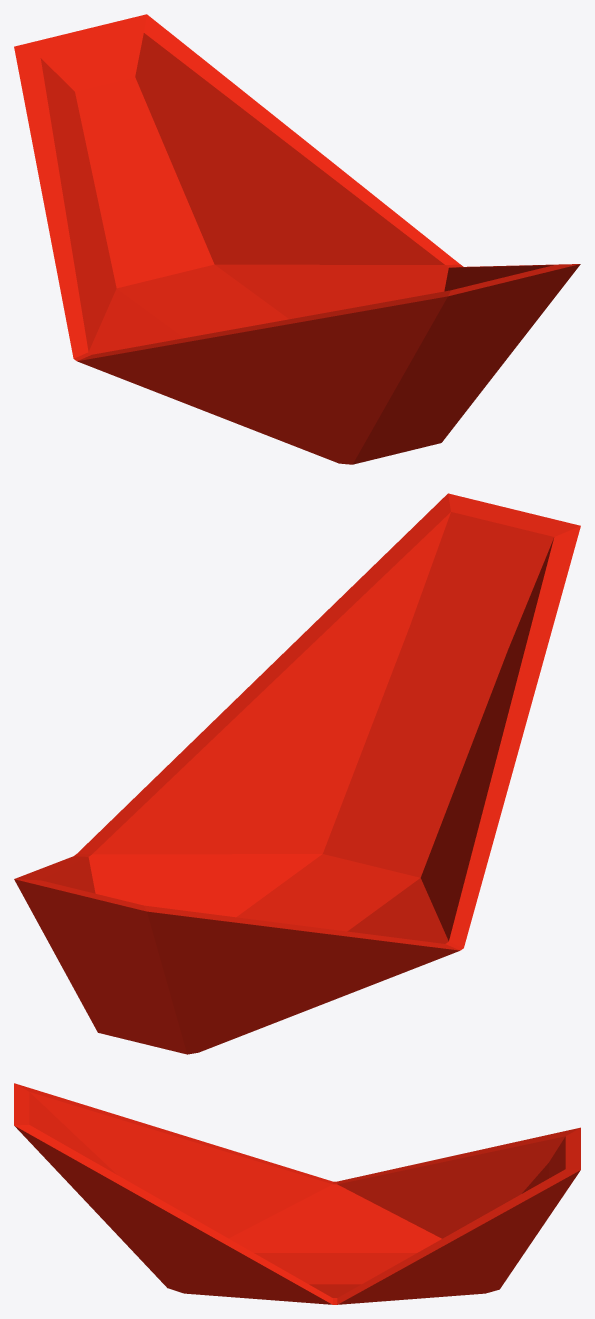
The model's file is PROP_PaperBoat.FBX.
The picture shows the model from 3 angles, top to bottom: view 1: azimuth 30°, elevation 25°; view 2: azimuth 150°, elevation 25°; view 3: azimuth 270°, elevation 25°; orthographic projection. The views are drawn at different scales.
Parts seen in each view (by area): view 1: barca n2; view 2: barca n2; view 3: barca n2.
Boxes of the visible parts, x1,y1,x2,y2 form: barca n2: [14, 14, 580, 464]; barca n2: [14, 493, 580, 1054]; barca n2: [14, 1083, 580, 1304].
Bounding box in the file's own units: 1.81 × 1.2 × 3.53.
